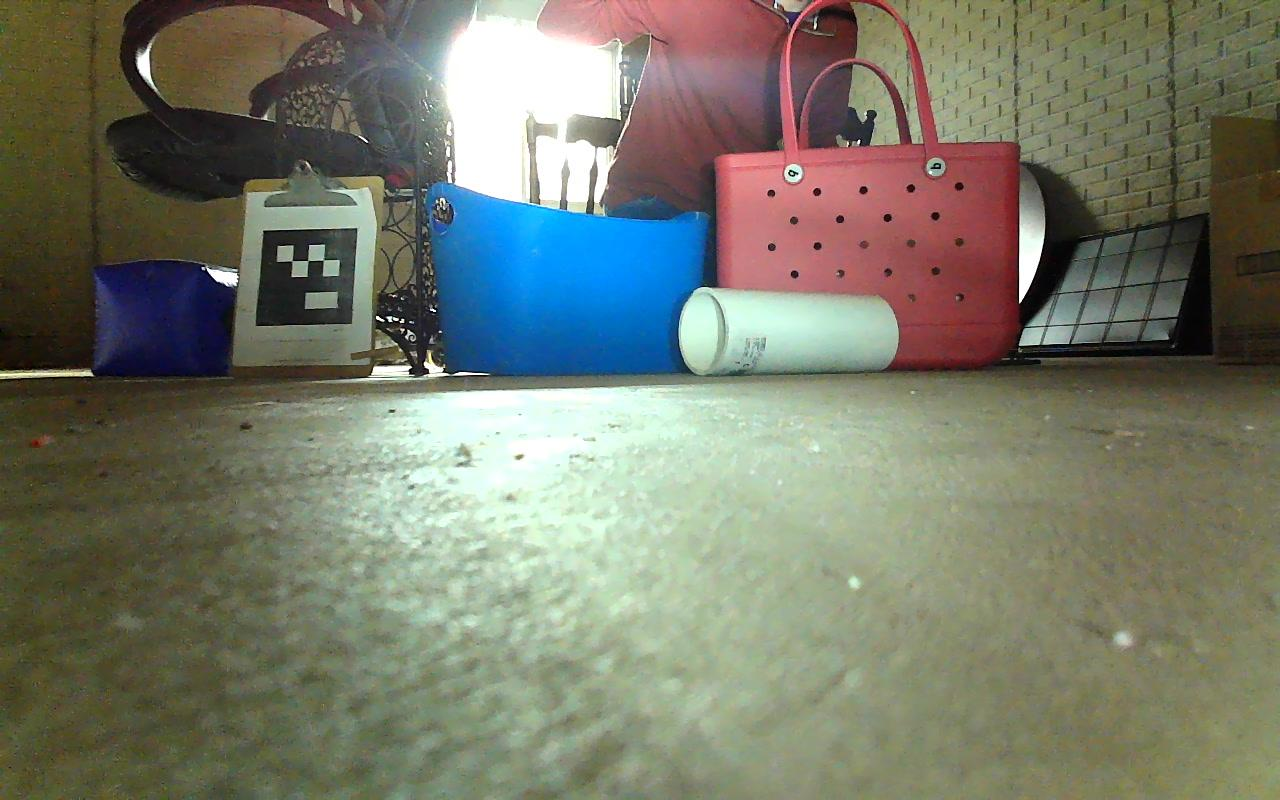coral: (679, 286, 898, 375)
